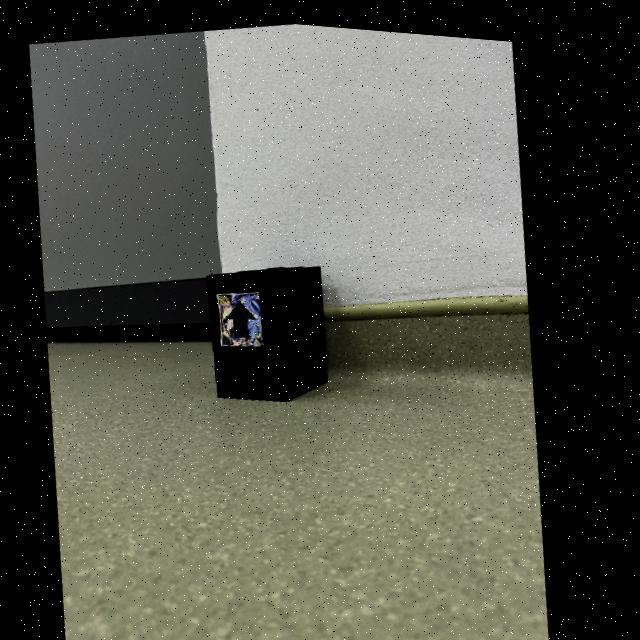UP: (233, 296, 262, 334)
